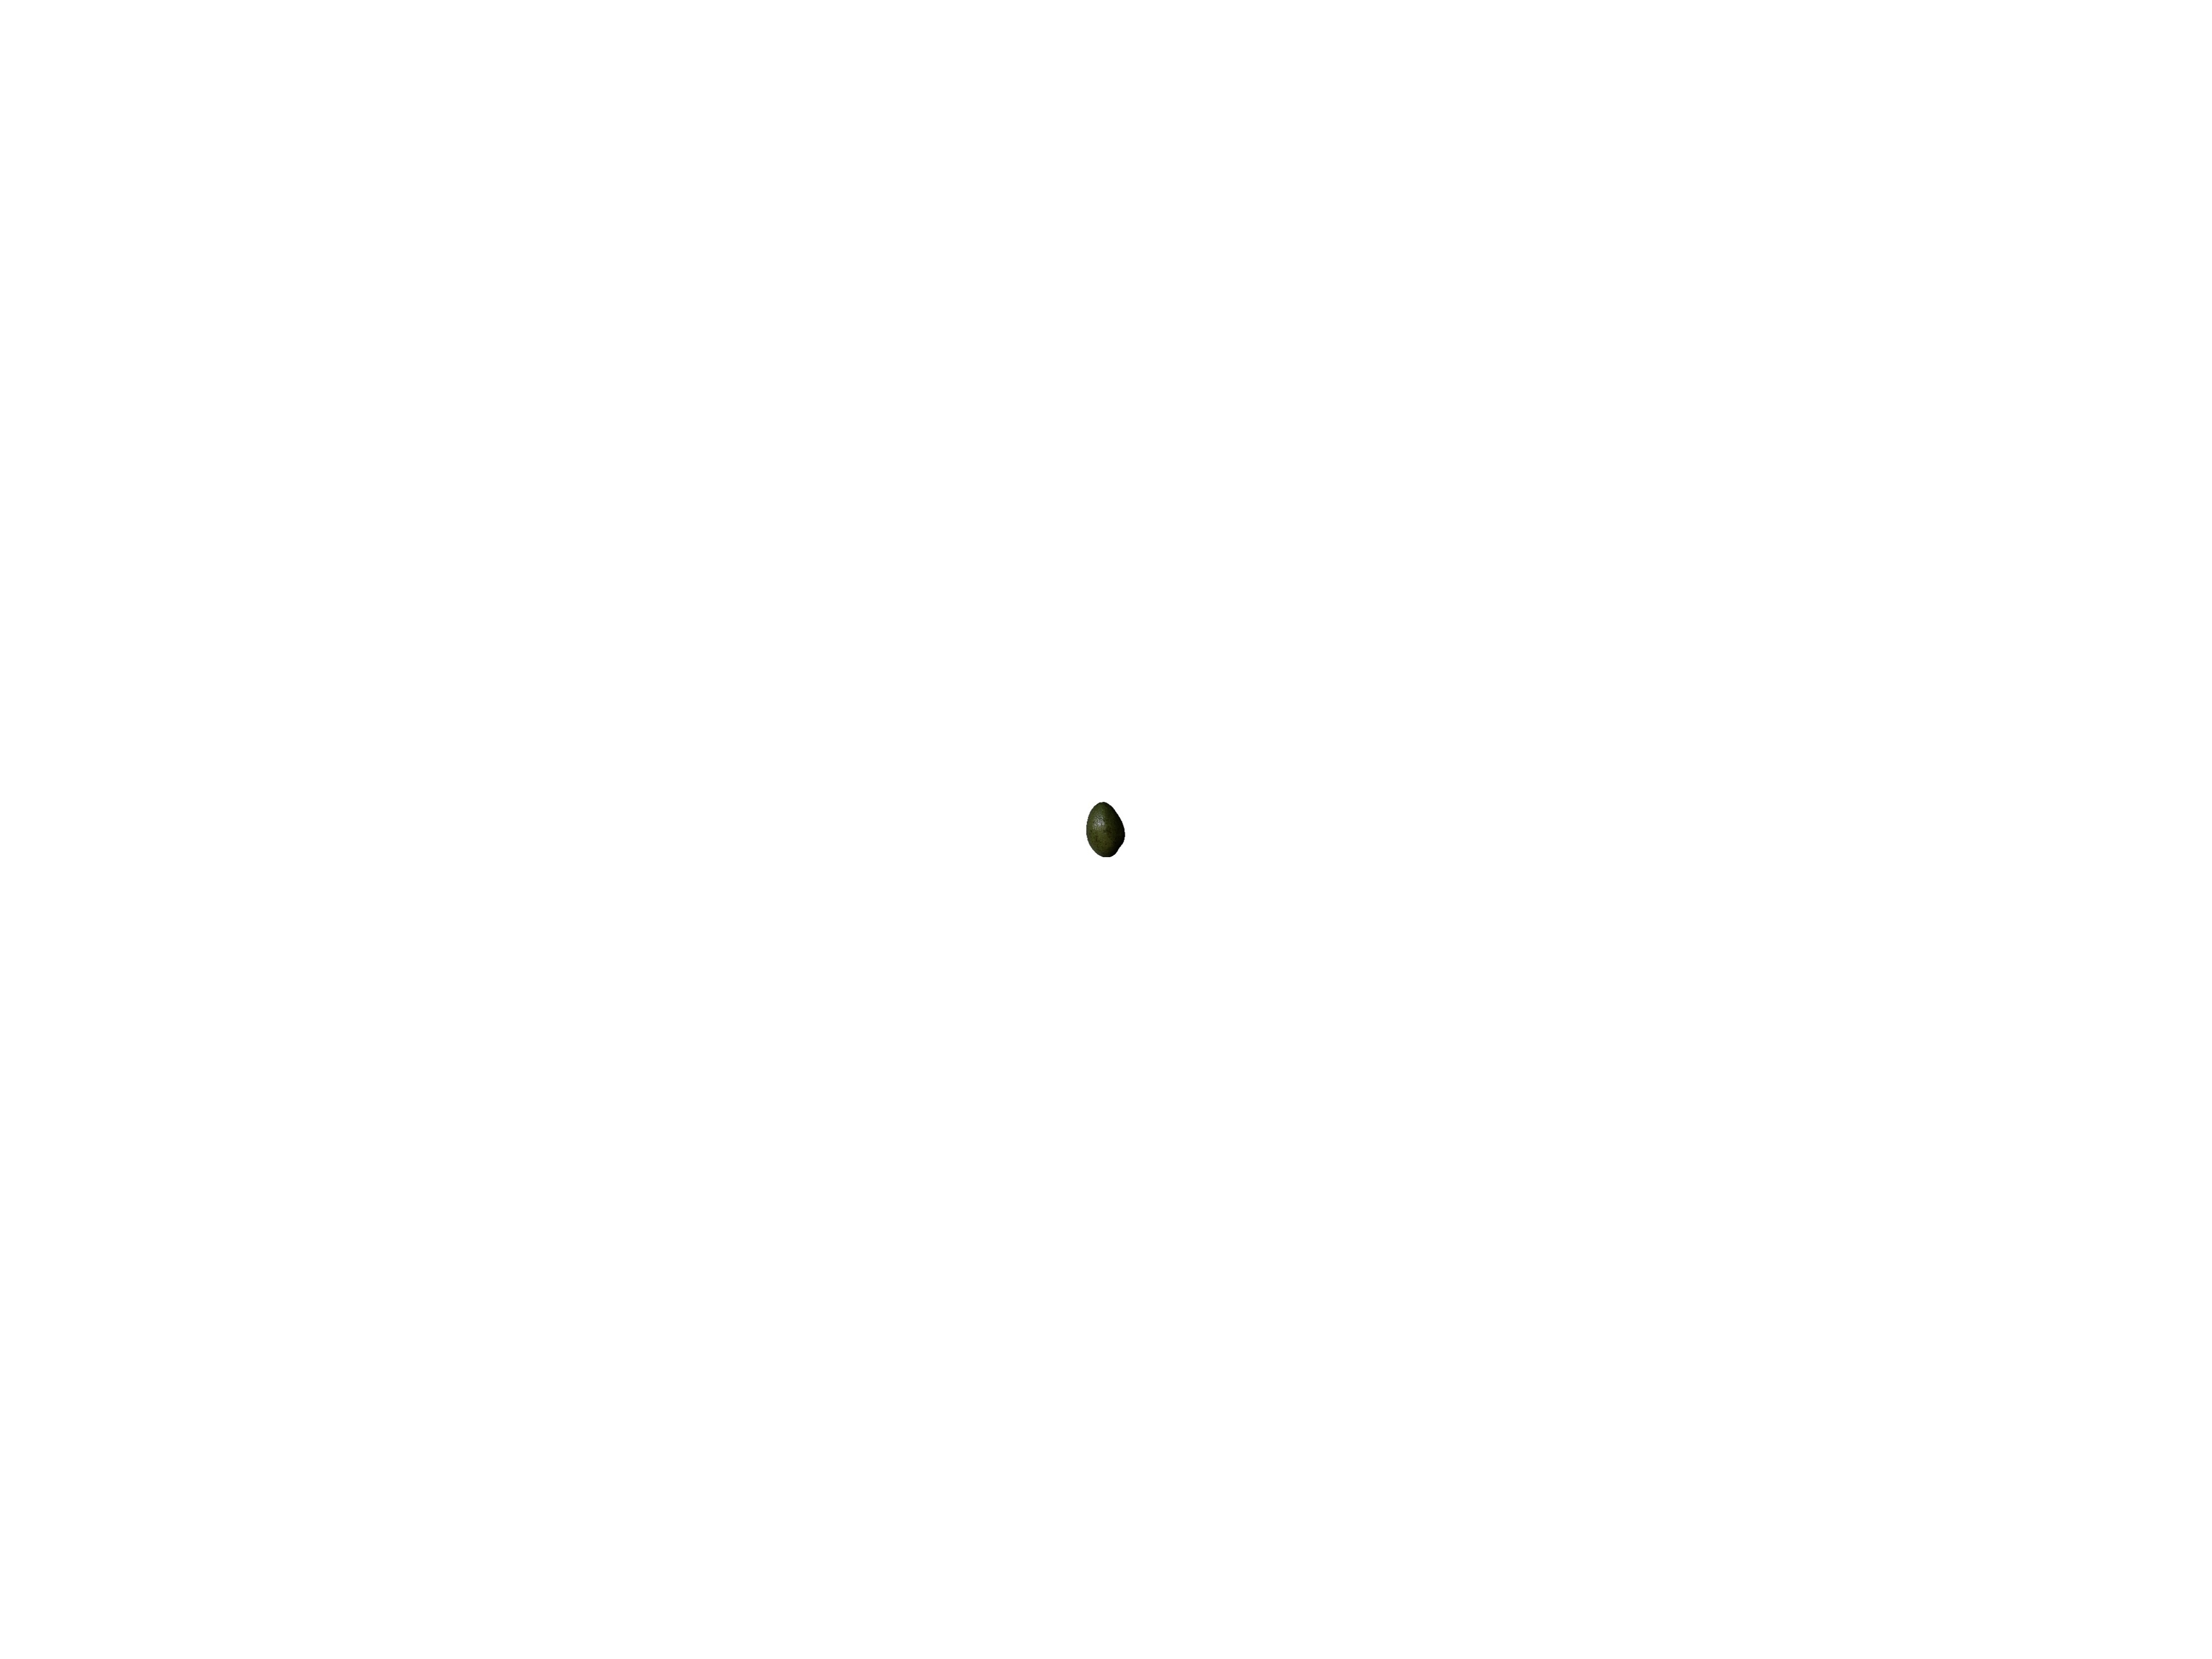abacate: (1083, 791, 1127, 859)
